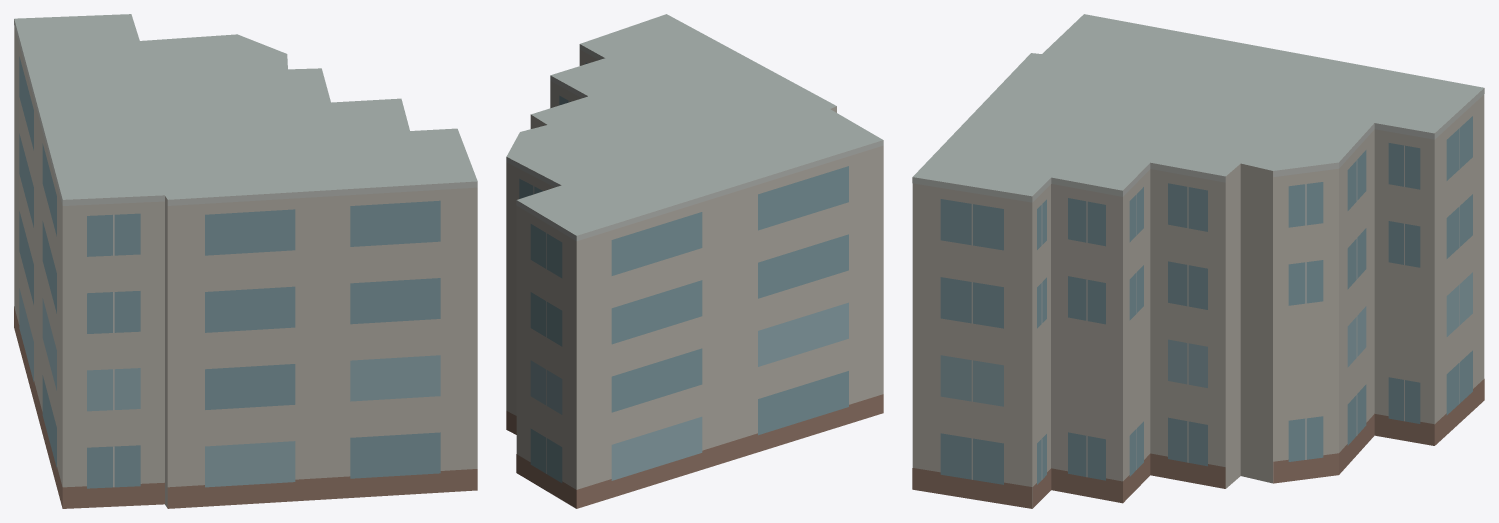
Rendered from survey-upis-32676587.glb.
3 renders of one model, left to right at view 1: azimuth 30°, elevation 25°; view 2: azimuth 150°, elevation 25°; view 3: azimuth 270°, elevation 25°, orthographic. The views are drawn at different scales.
Parts seen in each view (by area): view 1: survey-upis-32676587.tmp; view 2: survey-upis-32676587.tmp; view 3: survey-upis-32676587.tmp.
Part boxes in pixels (x1,y1,x2,y2): survey-upis-32676587.tmp: (14, 14, 477, 508); survey-upis-32676587.tmp: (506, 14, 883, 508); survey-upis-32676587.tmp: (912, 14, 1484, 508).
Size of the model in its own units: 15.27 by 12.2 by 20.25.
